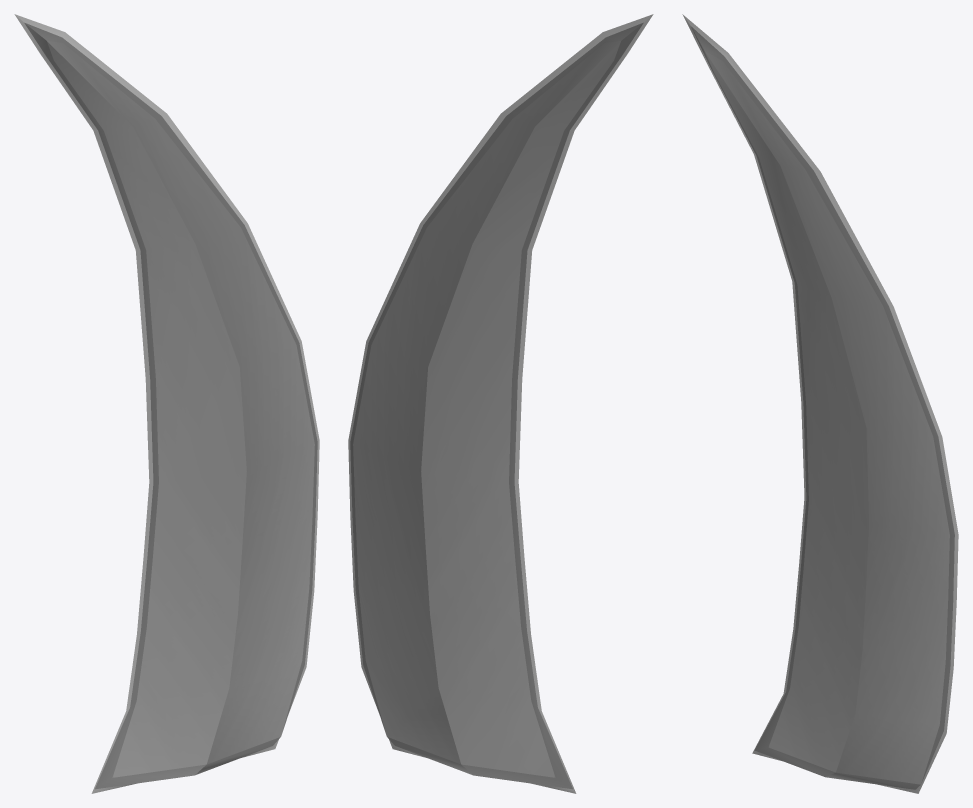
Rendered from stone_blade (13).glb.
3 views of the same model, side by side, from view 1: azimuth 30°, elevation 25°; view 2: azimuth 150°, elevation 25°; view 3: azimuth 330°, elevation 25° (orthographic). The views are drawn at different scales.
Parts seen in each view (by area): view 1: stone_blade_unscratched.033; view 2: stone_blade_unscratched.033; view 3: stone_blade_unscratched.033.
Boxes of the visible parts, bbox=[...] form: stone_blade_unscratched.033: bbox=[14, 14, 319, 793]; stone_blade_unscratched.033: bbox=[348, 14, 653, 793]; stone_blade_unscratched.033: bbox=[682, 14, 958, 793].
Bounding box in the file's own units: 4.91 × 12.29 × 0.7262.
Materials: 1 (1 with a texture image).
